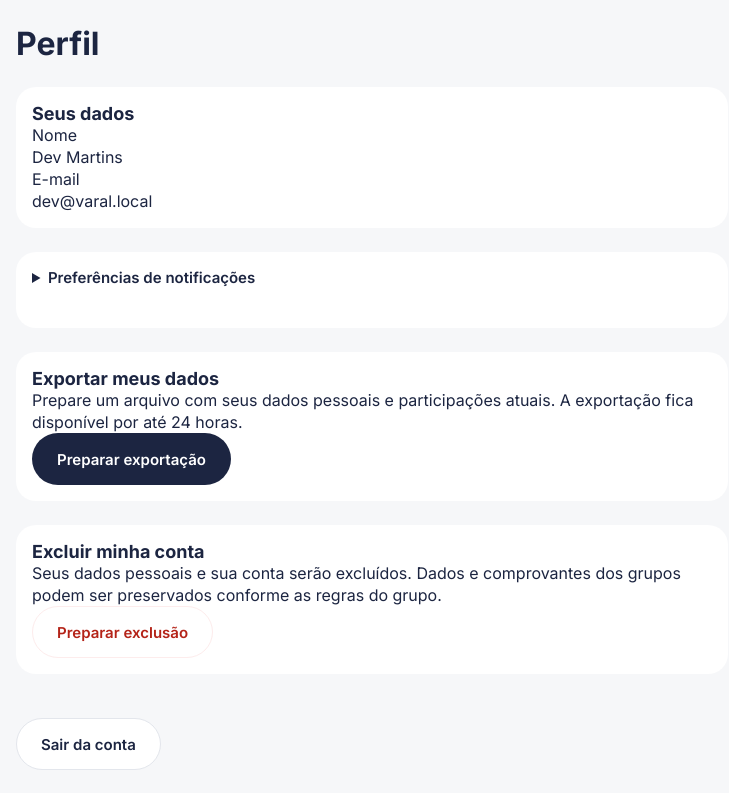
Scenario: reauth de exportação exige confirmação e repete a mesma chave após falha
Click the button "Preparar exportação". click: [131, 459]
box: [32, 433, 231, 485]
(page scrolled)
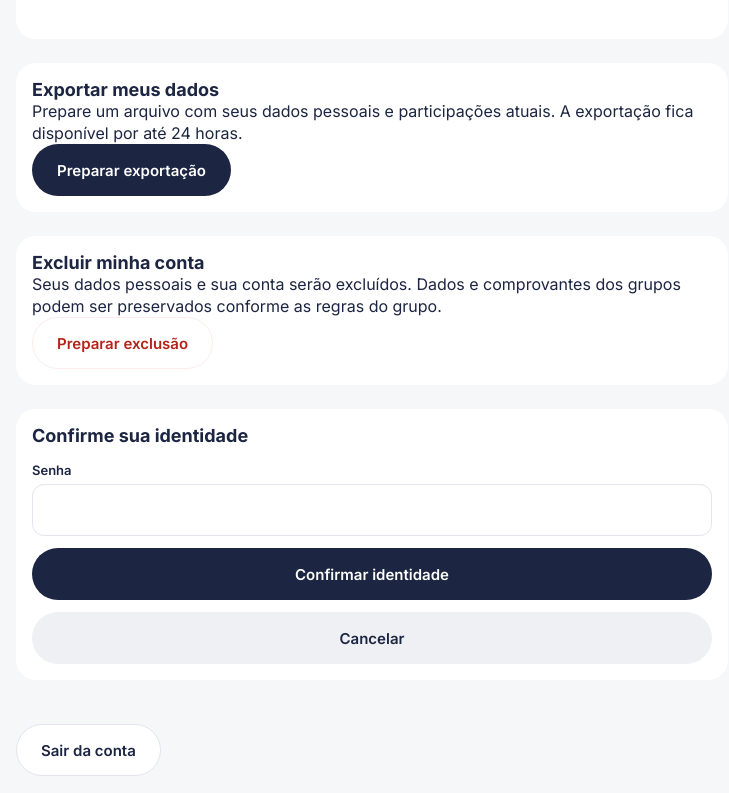
Type "senha" into the password field labelled "Senha". click: [372, 510]
box: [49, 485, 695, 535]
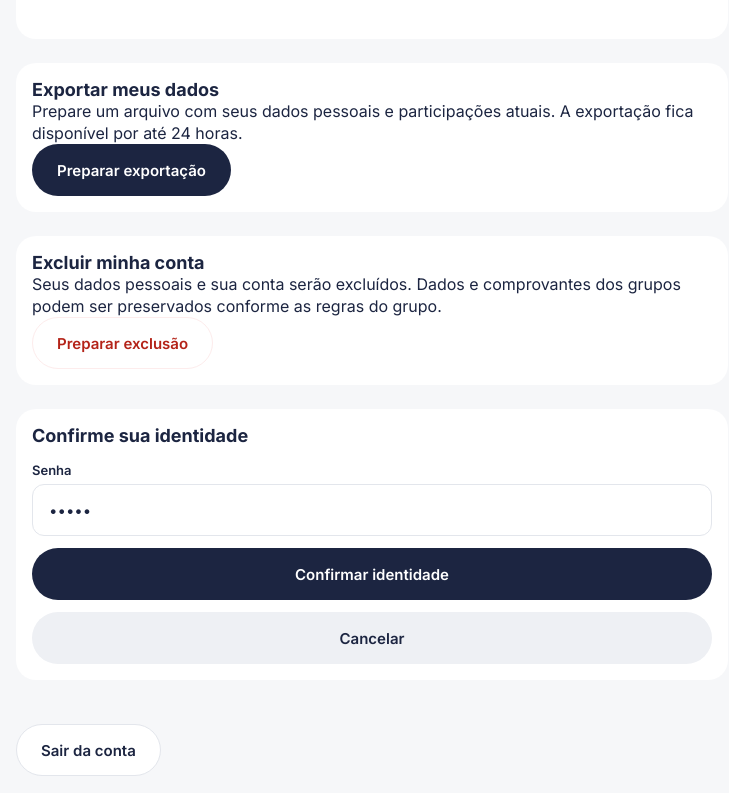
Click the button "Confirmar identidade". click: [372, 574]
box: [32, 548, 712, 600]
(page scrolled)
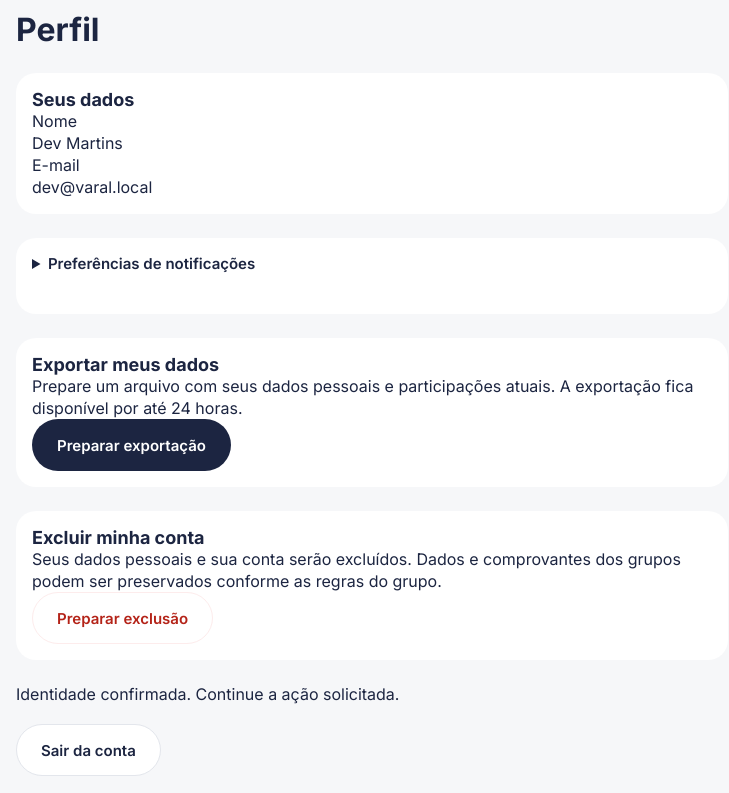
Now the text "Identidade confirmada. Continue a ação solicitada." is shown, box [16, 684, 400, 704]
Click the button "Preparar exportação". click: [131, 445]
box: [32, 419, 231, 471]
(page scrolled)
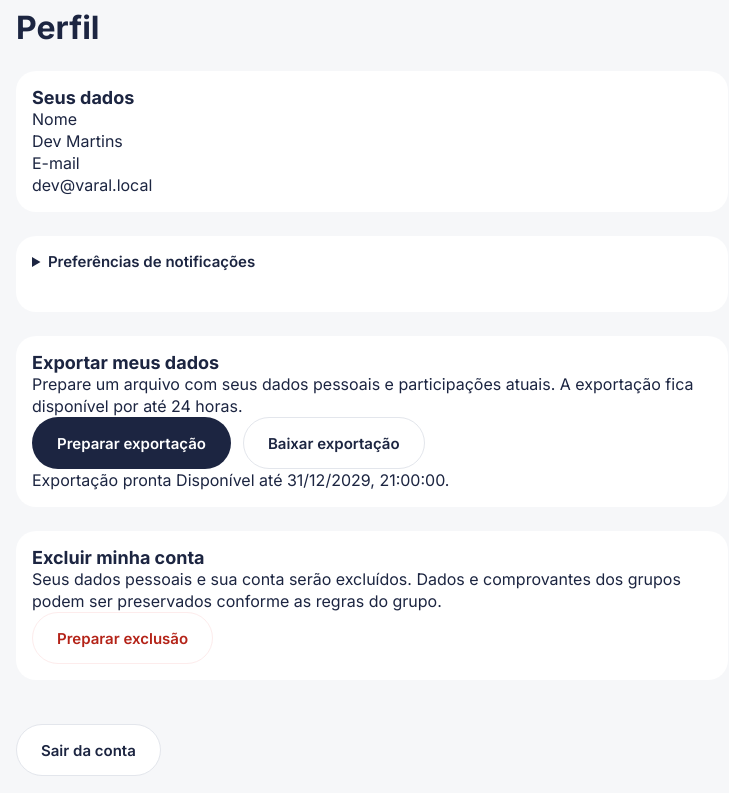
Now the button "Baixar exportação" is shown, box [243, 417, 425, 469]
